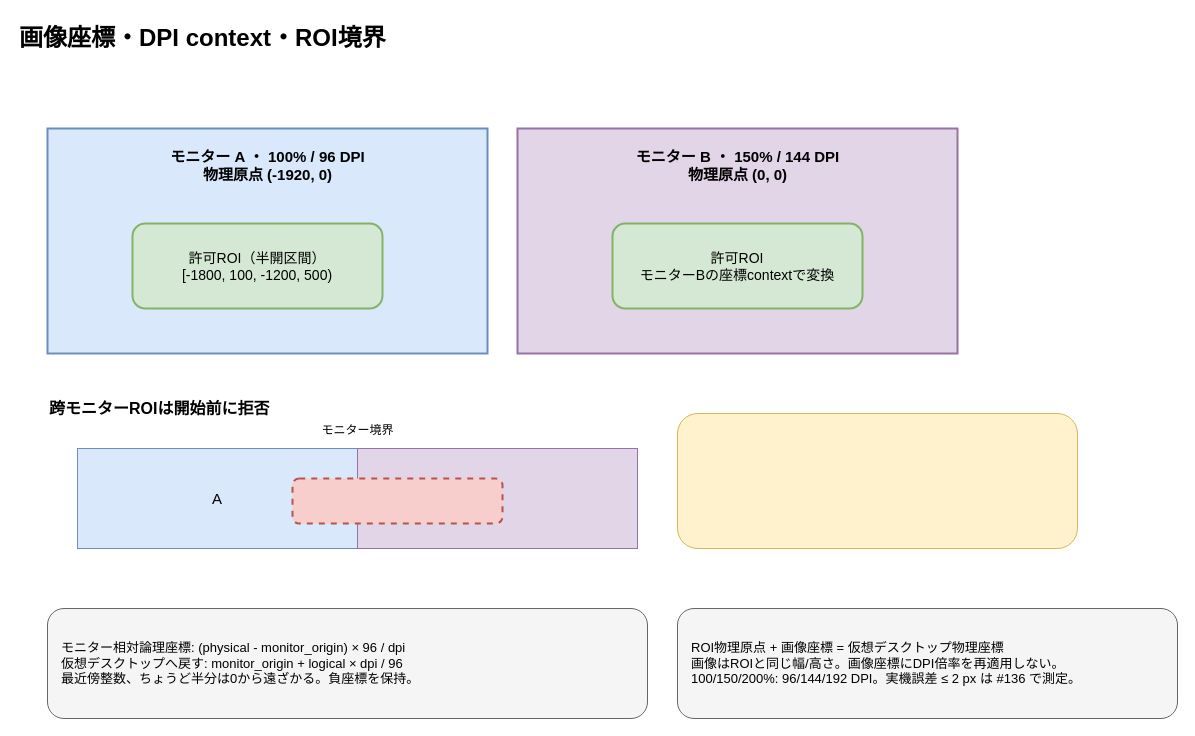
Some shapes in this 1195 by 736 pixel diagram are drawn without their labels. Each missing label, with the centre of its shape:
拒否: 境界を跨ぐROI: (x=397, y=500)
許可条件: 1モニターに完全包含。右端/下端がモニター端と等しいROIは許可。隙間・画面外・空矩形・境界跨ぎは拒否し、切り詰めや分割をしない。: (x=877, y=480)
